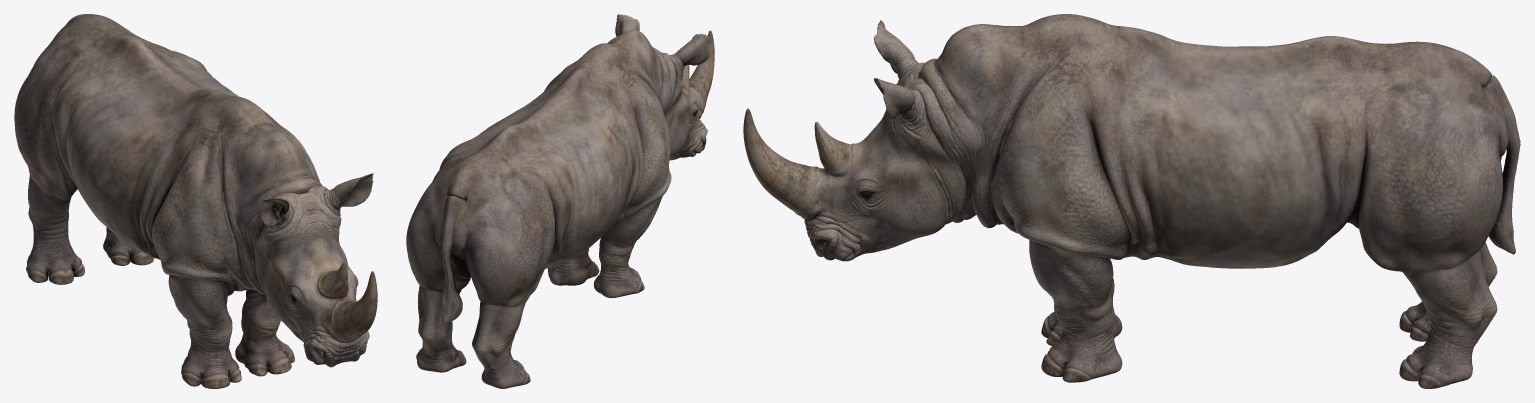
Rendered from rhino-realistic.glb.
3 renders of one model, left to right at view 1: azimuth 30°, elevation 25°; view 2: azimuth 150°, elevation 25°; view 3: azimuth 270°, elevation 25°, orthographic. The views are drawn at different scales.
Visible parts, largest first — view 1: rhino; view 2: rhino; view 3: rhino.
Part boxes in pixels (x1=…): rhino: x1=14, y1=14, x2=377, y2=388; rhino: x1=406, y1=14, x2=714, y2=388; rhino: x1=743, y1=14, x2=1520, y2=388.
Bounding box in the file's own units: 1.17 × 1.81 × 3.8.
Materials: 1 (1 with a texture image).
